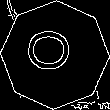O_E: (29, 32, 81, 78)
